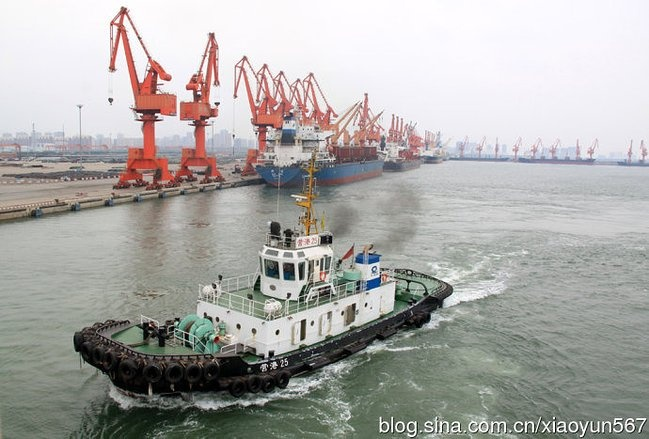Cargoship: (254, 116, 388, 192), (520, 139, 600, 169), (383, 126, 423, 172), (448, 135, 511, 163), (422, 135, 449, 165)
otherboat: (66, 175, 452, 398)
